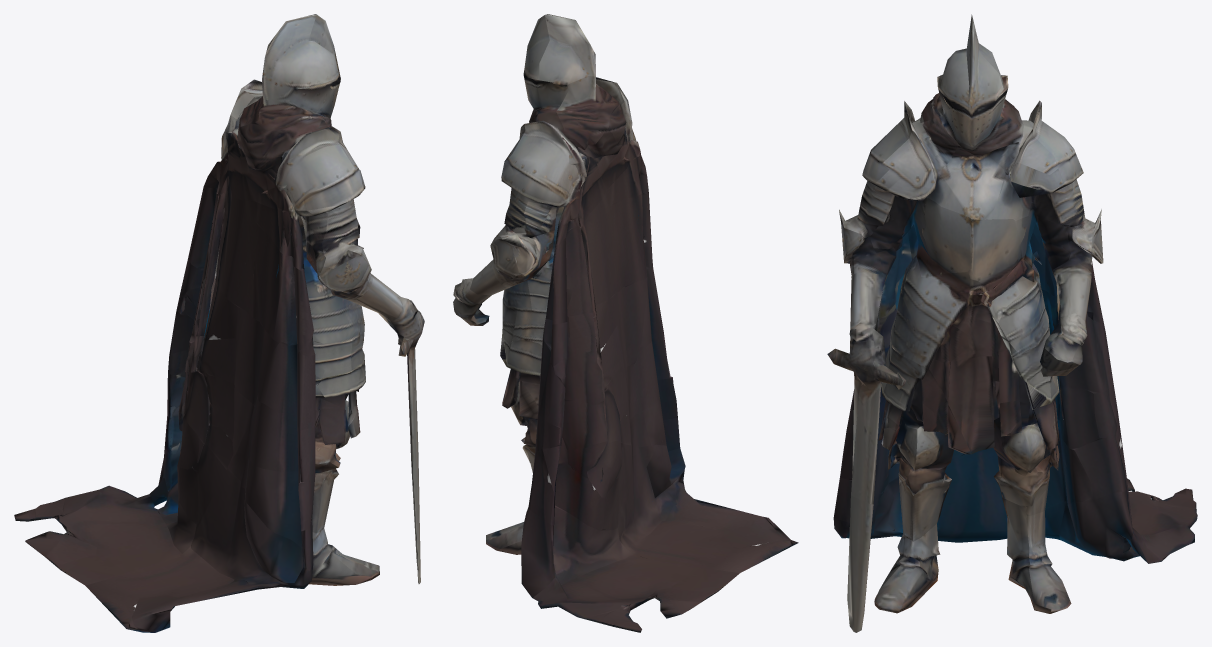
The picture shows the model from 3 angles, left to right: view 1: azimuth 30°, elevation 25°; view 2: azimuth 150°, elevation 25°; view 3: azimuth 270°, elevation 25°; orthographic projection. The views are drawn at different scales.
Visible parts, largest first — view 1: body; view 2: body; view 3: body.
Part boxes in pixels (x1,y1,x2,y2): body: [14, 14, 424, 632]; body: [453, 14, 798, 632]; body: [827, 14, 1197, 632].
Bounding box in the file's own units: 0.5755 × 0.9908 × 0.5758.
Materials: 1 (1 with a texture image).
